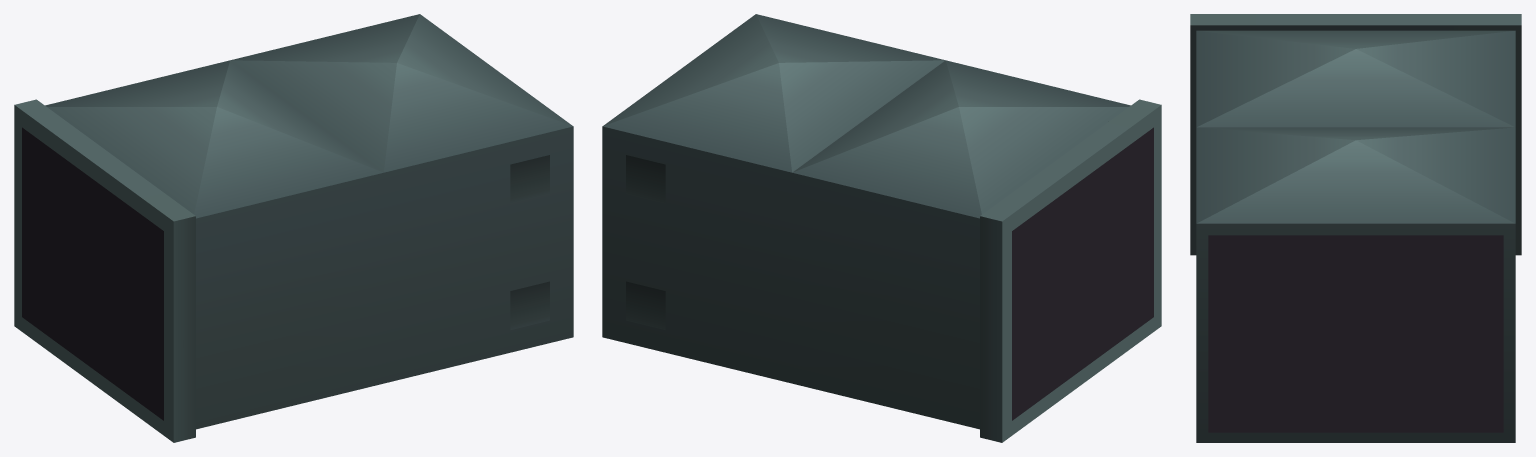
File: Air_Vent_3C.fbx
3 renders of one model, left to right at view 1: azimuth 30°, elevation 25°; view 2: azimuth 150°, elevation 25°; view 3: azimuth 270°, elevation 25°, orthographic. The views are drawn at different scales.
Parts seen in each view (by area): view 1: Air_Vent_3C; view 2: Air_Vent_3C; view 3: Air_Vent_3C.
Part boxes in pixels (x1,y1,x2,y2): Air_Vent_3C: (14,14,573,442); Air_Vent_3C: (602,14,1161,442); Air_Vent_3C: (1190,14,1521,442).
Bounding box in the file's own units: 201 × 117 × 137.
